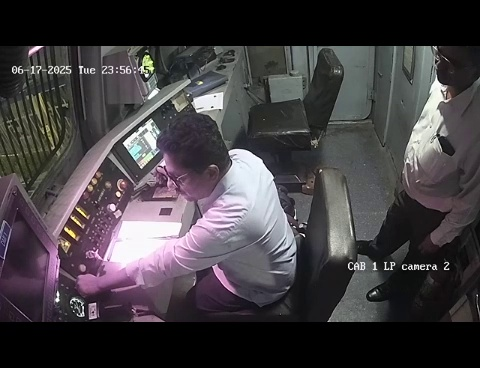horn_active: (71, 268, 129, 319)
